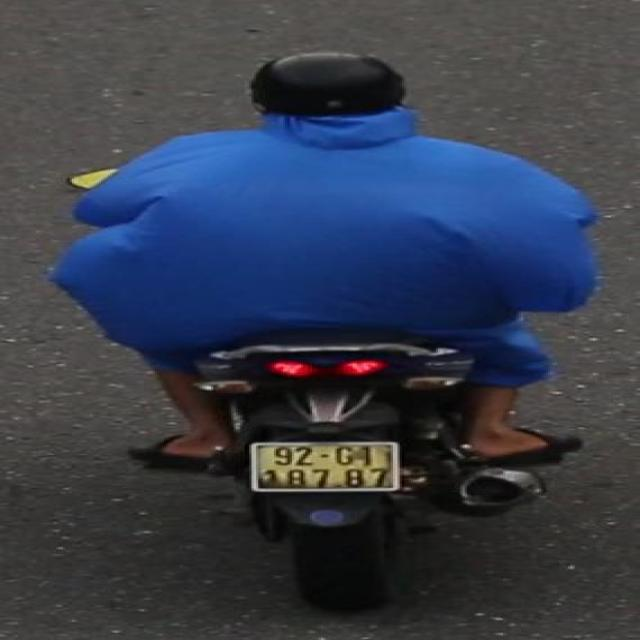LP: (225, 432, 413, 506)
helmet: (242, 48, 406, 138)
